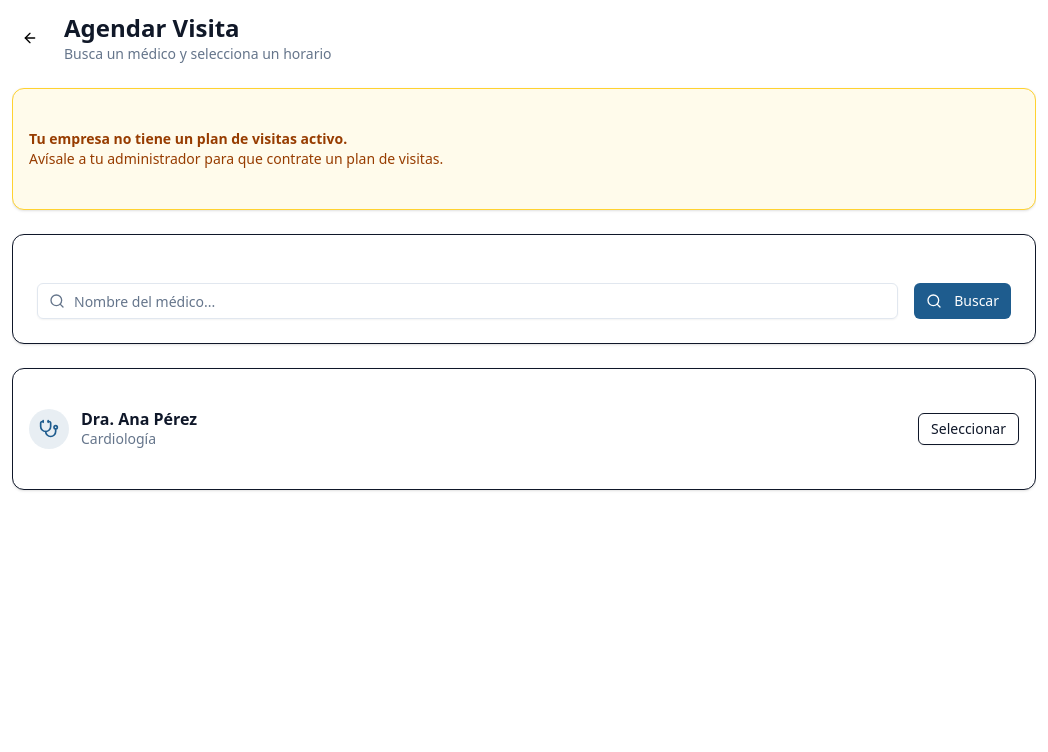
Test case: VisitadorAgendarPage — prioridad al agendar › 'libre' sin el gate (farmacia o sin módulo) no ofrece Enrolar
Click the button "Seleccionar" at point(969, 429), box left=918, top=413, right=1019, bottom=445
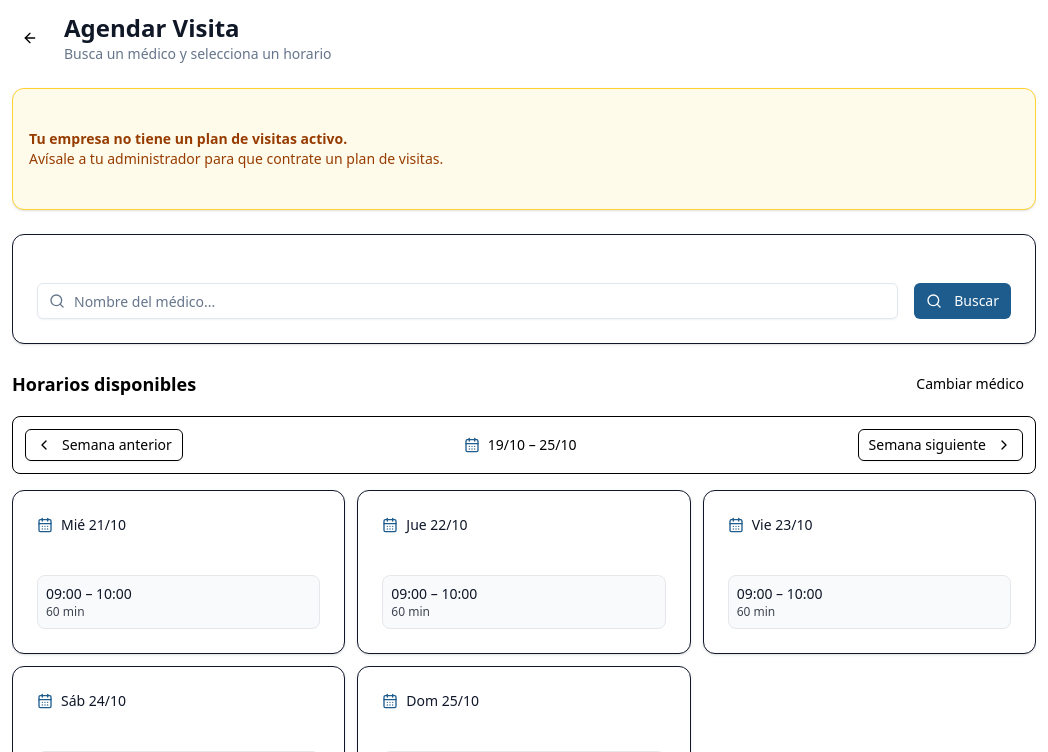
Expected: the heading "Horarios disponibles" is shown, left=12, top=370, right=196, bottom=398
